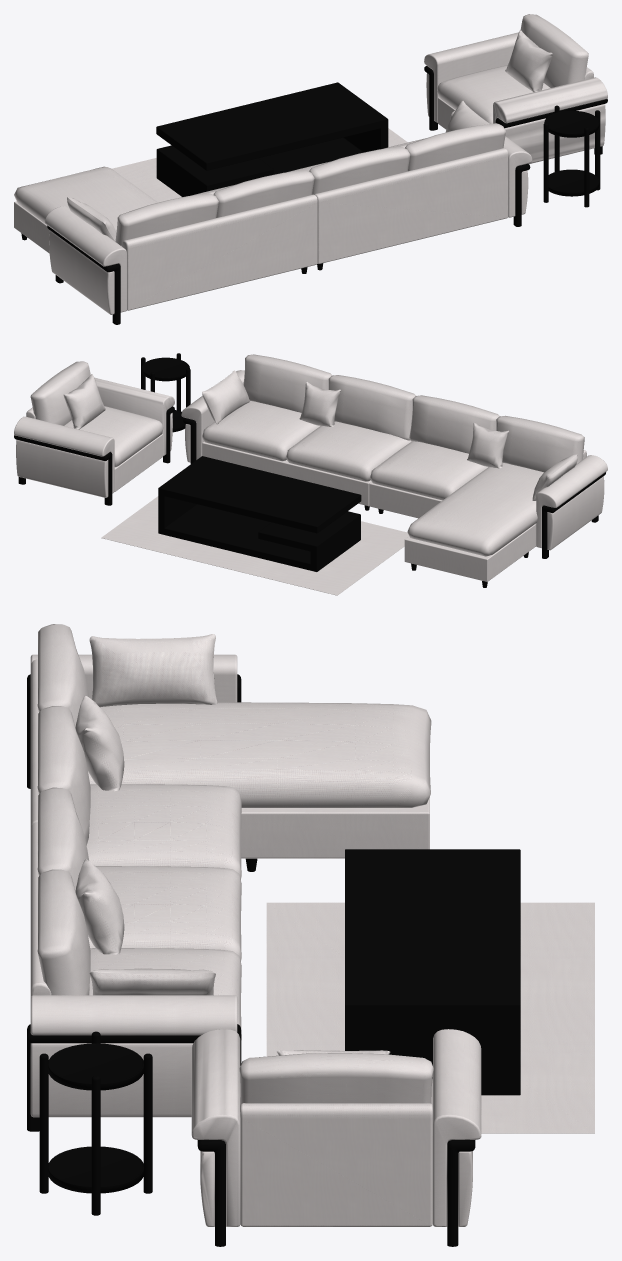
The model's file is sofa_sectional.gltf.
3 renders of one model, top to bottom at view 1: azimuth 30°, elevation 25°; view 2: azimuth 150°, elevation 25°; view 3: azimuth 270°, elevation 25°, orthographic. The views are drawn at different scales.
Parts seen in each view (by area): view 1: Sofa, Table, SingleSofa, Object_Black_0, Plane; view 2: Sofa, Table, SingleSofa, Plane, Object_Black_0; view 3: Sofa, SingleSofa, Table, Plane, Object_Black_0.
Boxes of the visible parts, x1,y1,x2,y2 form: Sofa: (14, 100, 532, 324); Table: (156, 82, 388, 196); SingleSofa: (424, 14, 607, 163); Object_Black_0: (543, 105, 600, 207); Plane: (112, 128, 407, 202); Sofa: (181, 354, 607, 587); Table: (158, 456, 361, 571); SingleSofa: (14, 361, 174, 505); Plane: (101, 496, 408, 595); Object_Black_0: (141, 353, 190, 432); Sofa: (27, 624, 431, 1131); SingleSofa: (191, 1029, 481, 1246); Table: (345, 849, 520, 1095); Plane: (266, 902, 594, 1133); Object_Black_0: (39, 1031, 152, 1215).
Size of the model in its own units: 177 by 31.15 by 89.76.
Materials: 2 (1 with a texture image).
